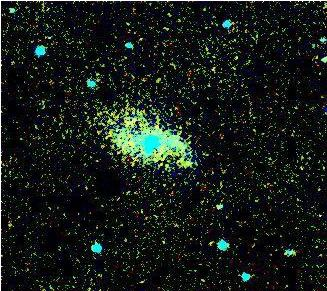star: (170, 149, 200, 179)
